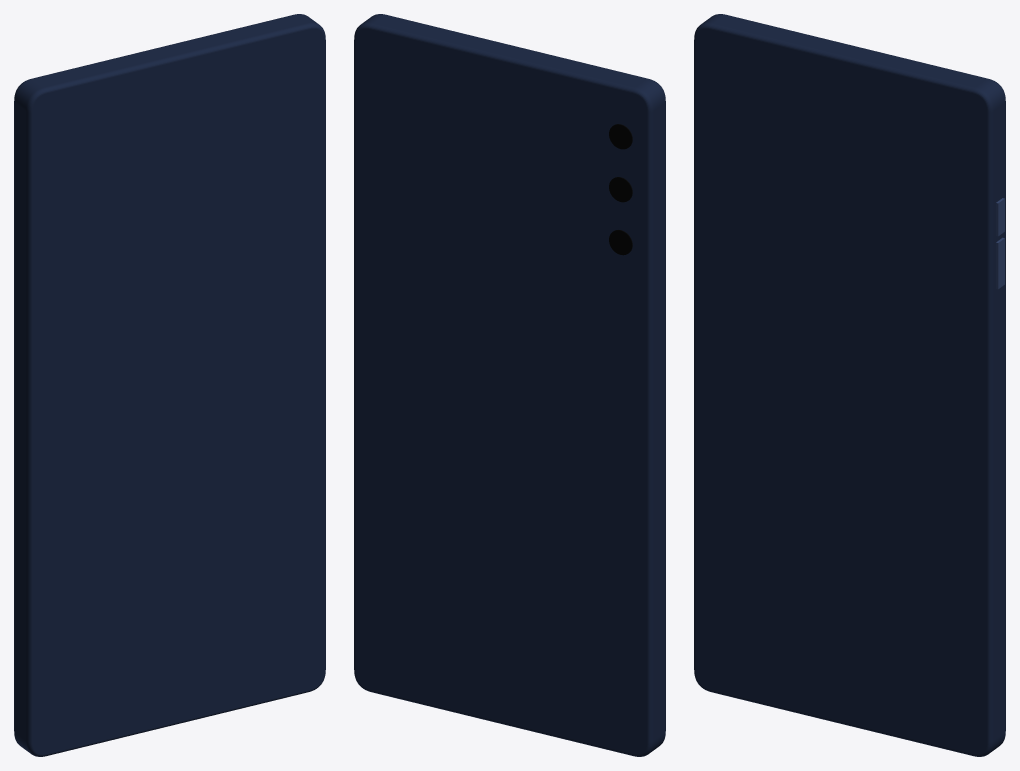
File: samsung-galaxy-s25.glb
3 views of the same model, side by side, from view 1: azimuth 30°, elevation 25°; view 2: azimuth 150°, elevation 25°; view 3: azimuth 330°, elevation 25° (orthographic).
Parts seen in each view (by area): view 1: Body; view 2: Body; view 3: Body.
Part boxes in pixels (left/top/right/bottom): Body: left=14, top=14, right=325, bottom=756; Body: left=354, top=14, right=665, bottom=756; Body: left=694, top=14, right=1005, bottom=756.
Size of the model in its own units: 0.0929 by 0.1979 by 0.0093.
